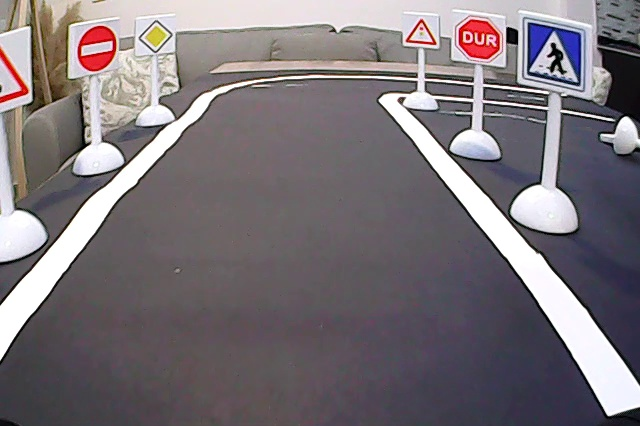do not enter: (69, 26, 123, 76)
pedestrian crossing: (519, 13, 592, 96)
red light: (403, 13, 438, 49)
stop sign: (453, 9, 509, 67)
